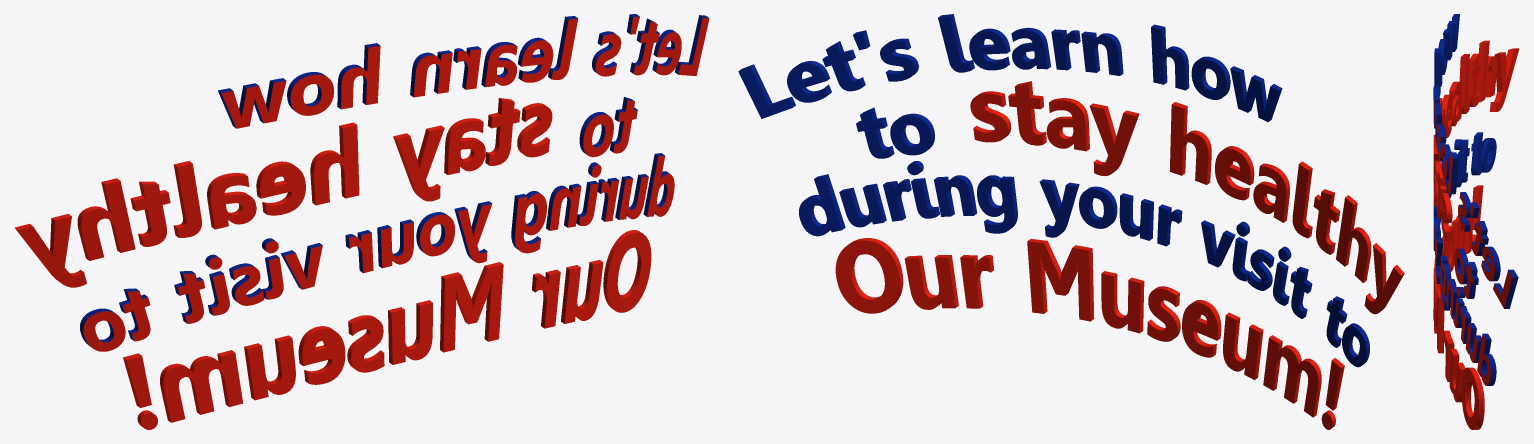
The model's file is IntroductionText.fbx.
3 views of the same model, side by side, from view 1: azimuth 30°, elevation 25°; view 2: azimuth 150°, elevation 25°; view 3: azimuth 270°, elevation 25° (orthographic). The views are drawn at different scales.
Visible parts, largest first — view 1: Text001; view 2: Text001; view 3: Text001.
Part boxes in pixels (x1,y1,x2,y2): Text001: (15, 14, 709, 429); Text001: (738, 14, 1404, 429); Text001: (1433, 14, 1519, 429).
Bounding box in the file's own units: 1.1 × 0.1516 × 0.5343.
